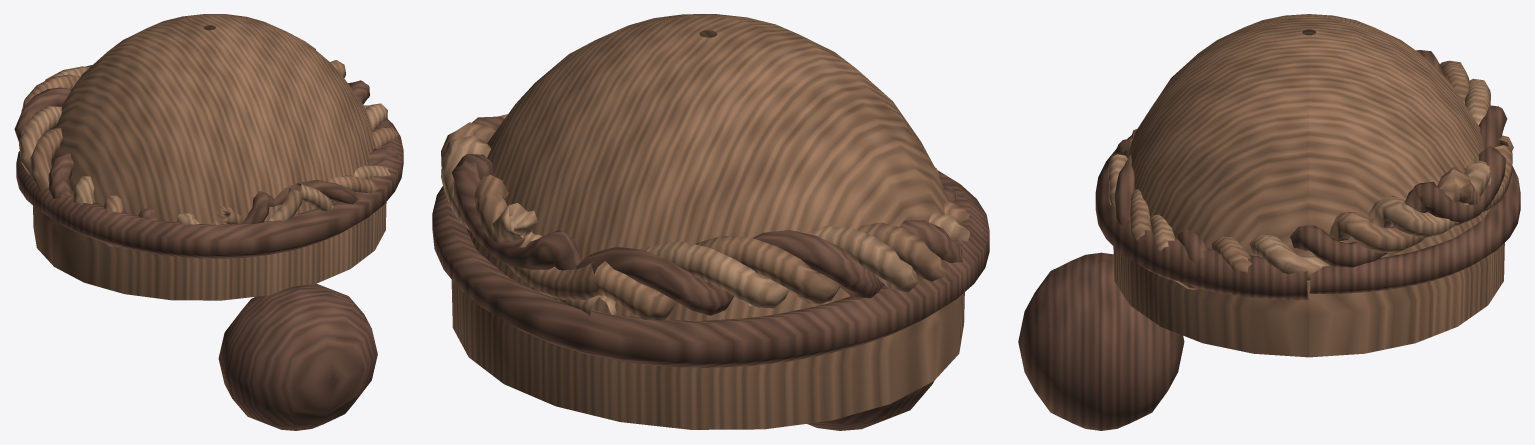
File: hair_braided_crown.glb
The picture shows the model from 3 angles, left to right: view 1: azimuth 30°, elevation 25°; view 2: azimuth 150°, elevation 25°; view 3: azimuth 270°, elevation 25°; orthographic projection. The views are drawn at different scales.
Parts seen in each view (by area): view 1: hair_braided_crown; view 2: hair_braided_crown; view 3: hair_braided_crown.
Part boxes in pixels (left/top/right/bottom): hair_braided_crown: left=14, top=14, right=403, bottom=430; hair_braided_crown: left=432, top=14, right=989, bottom=430; hair_braided_crown: left=1018, top=14, right=1520, bottom=430.
Bounding box in the file's own units: 1 × 0.9297 × 1.09.
3 materials, 3 textured.
